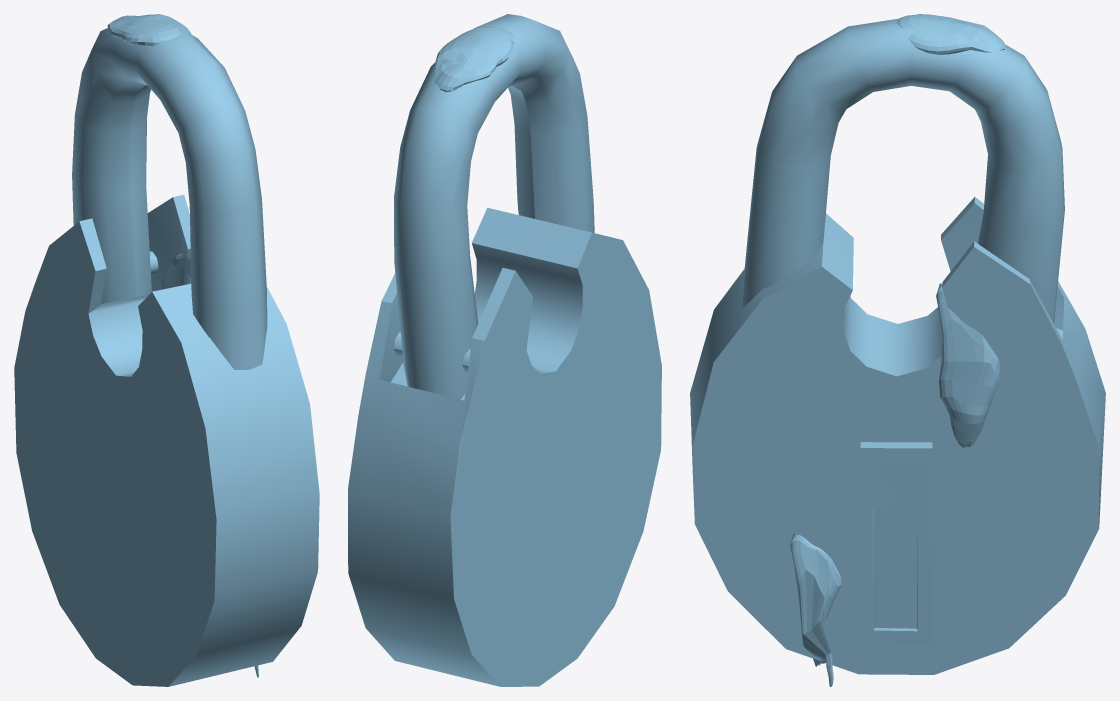
File: LockwithIce.fbx
3 views of the same model, side by side, from view 1: azimuth 30°, elevation 25°; view 2: azimuth 150°, elevation 25°; view 3: azimuth 270°, elevation 25° (orthographic).
Visible parts, largest first — view 1: lock, Sphere.002, Sphere; view 2: lock, Sphere.002; view 3: lock, Sphere, Sphere.001, Sphere.002.
Part boxes in pixels (<box>): lock: <box>14,14,319,686</box>; Sphere.002: <box>107,14,190,45</box>; Sphere: <box>160,249,191,289</box>; lock: <box>348,14,661,686</box>; Sphere.002: <box>433,26,513,92</box>; lock: <box>690,18,1105,674</box>; Sphere: <box>936,283,999,447</box>; Sphere.001: <box>790,533,841,686</box>; Sphere.002: <box>896,14,1005,54</box>.
Bounding box in the file's own units: 39.91 × 203 × 119.
